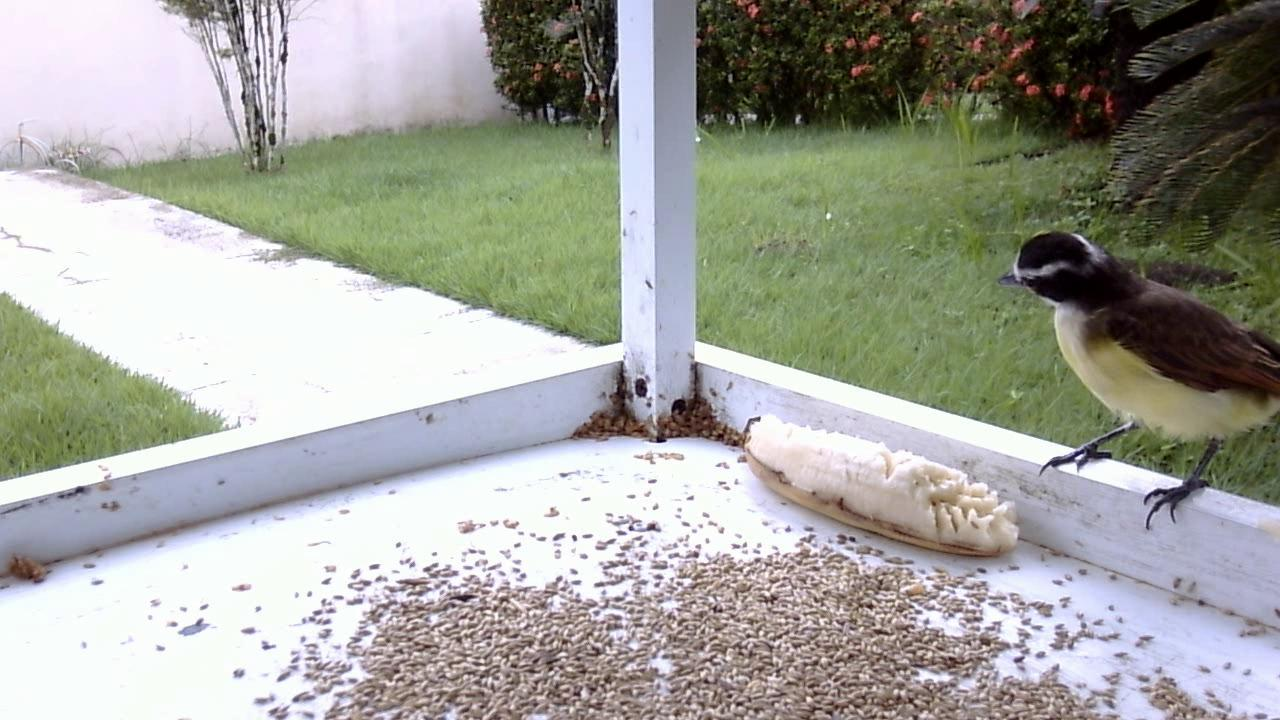bem_te_vi: (987, 221, 1277, 542)
